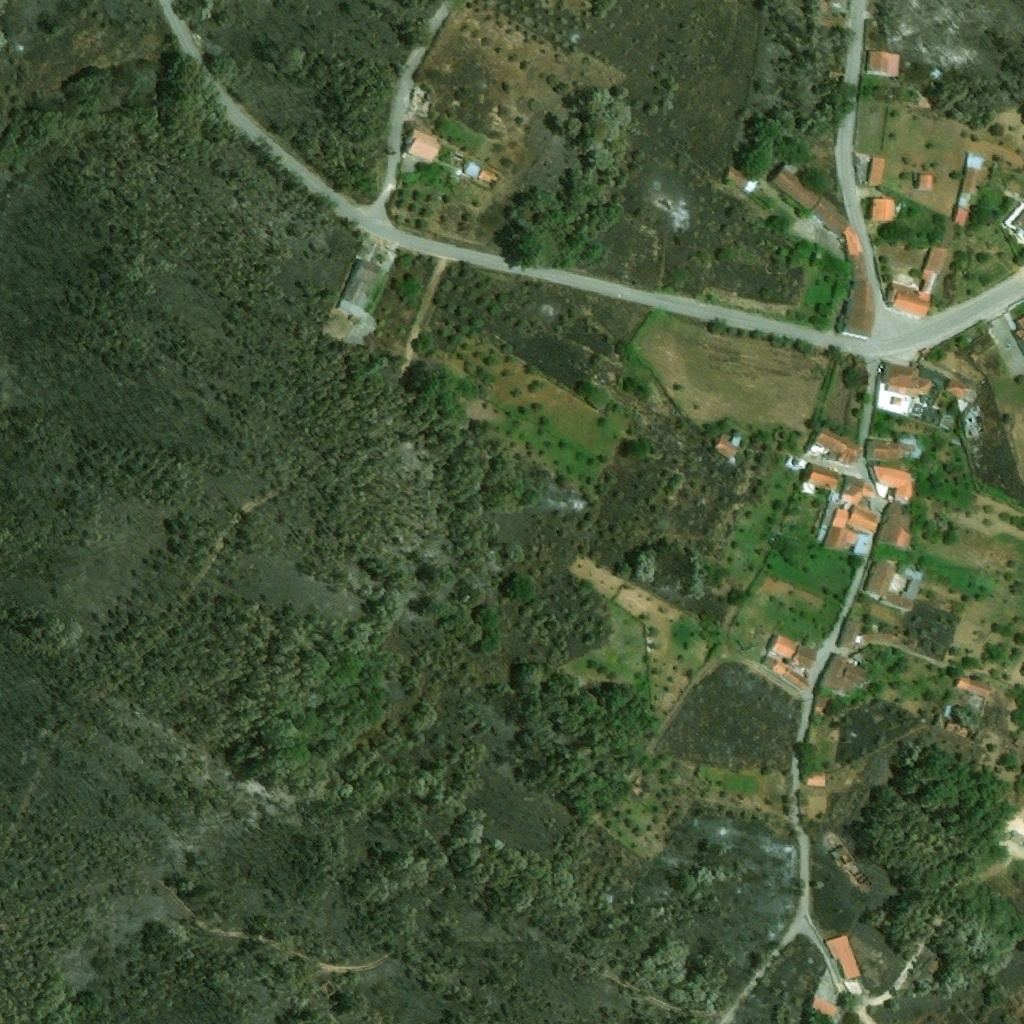0 no-damage: (884, 244, 947, 317), (815, 500, 878, 555), (842, 224, 870, 336), (875, 363, 932, 416), (335, 262, 382, 324), (837, 618, 918, 652), (864, 558, 915, 611), (770, 160, 822, 211), (808, 425, 865, 465), (875, 500, 913, 552), (822, 652, 867, 694), (931, 704, 977, 742), (825, 934, 862, 980), (762, 656, 808, 690), (811, 198, 852, 236), (873, 465, 913, 502), (809, 966, 837, 1018), (405, 126, 444, 163), (961, 152, 987, 196), (841, 476, 876, 505), (901, 562, 927, 600), (953, 673, 992, 698), (712, 434, 743, 464), (724, 167, 757, 195), (866, 50, 900, 77), (804, 464, 839, 490), (918, 946, 948, 976), (463, 158, 499, 183), (871, 440, 914, 460), (792, 645, 818, 670), (961, 409, 982, 439), (871, 197, 896, 222), (772, 635, 798, 659), (956, 386, 977, 413), (868, 155, 886, 184), (945, 378, 969, 398), (811, 693, 830, 718), (628, 775, 647, 796), (952, 207, 969, 227), (784, 455, 808, 467), (806, 773, 827, 785), (919, 173, 934, 189), (930, 63, 944, 80), (1012, 210, 1023, 231), (957, 194, 971, 208), (829, 489, 841, 503), (968, 351, 979, 363), (830, 0, 847, 5)
2 major-damage: (825, 828, 878, 895), (407, 88, 431, 114)
